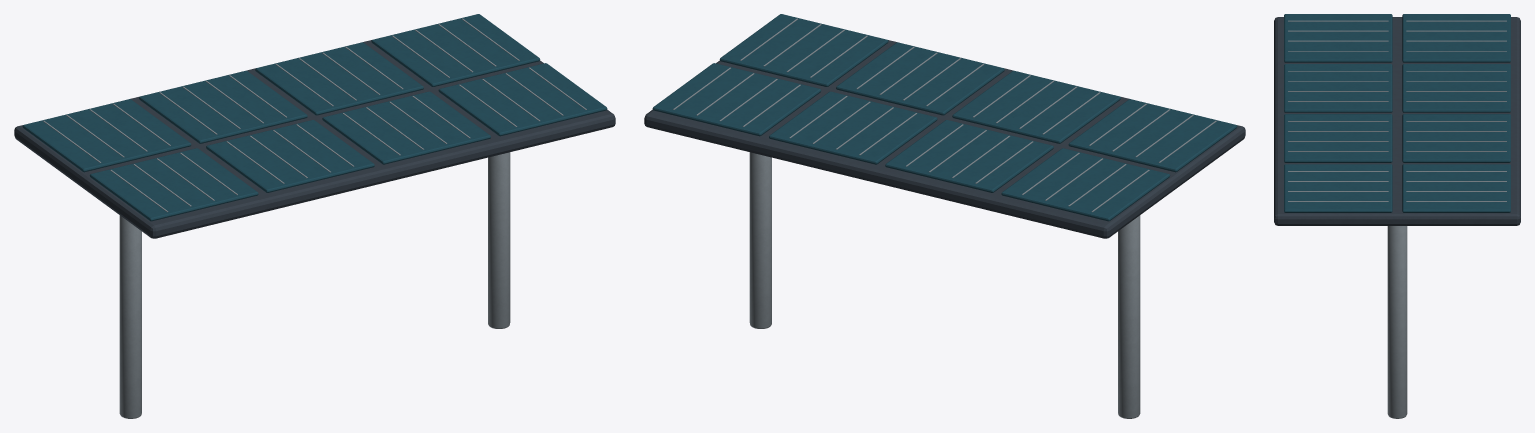
Rendered from solar-array.glb.
The picture shows the model from 3 angles, left to right: view 1: azimuth 30°, elevation 25°; view 2: azimuth 150°, elevation 25°; view 3: azimuth 270°, elevation 25°; orthographic projection. The views are drawn at different scales.
Visible parts, largest first — view 1: Assembly_Dark_blue_glazing, Array frame, Assembly_Machined_alloy; view 2: Assembly_Dark_blue_glazing, Array frame, Assembly_Machined_alloy; view 3: Assembly_Dark_blue_glazing, Array frame, Assembly_Machined_alloy.
Part boxes in pixels (x1,y1,x2,y2): Assembly_Dark_blue_glazing: [22, 14, 607, 221]; Array frame: [14, 40, 615, 238]; Assembly_Machined_alloy: [43, 18, 586, 418]; Assembly_Dark_blue_glazing: [652, 14, 1237, 221]; Array frame: [644, 40, 1245, 238]; Assembly_Machined_alloy: [673, 18, 1216, 418]; Assembly_Dark_blue_glazing: [1284, 14, 1510, 212]; Array frame: [1274, 17, 1520, 225]; Assembly_Machined_alloy: [1288, 20, 1506, 418].
Size of the model in its own units: 4.8 by 2.52 by 2.5.
3 materials, 3 textured.
